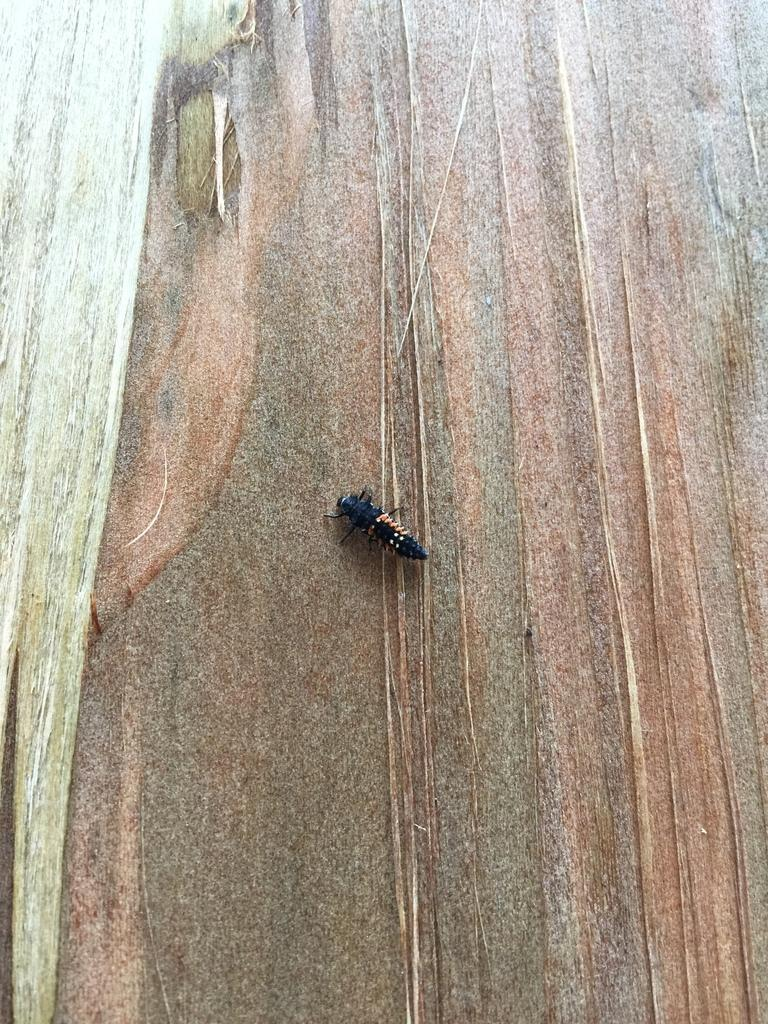ladybug: (322, 484, 432, 565)
